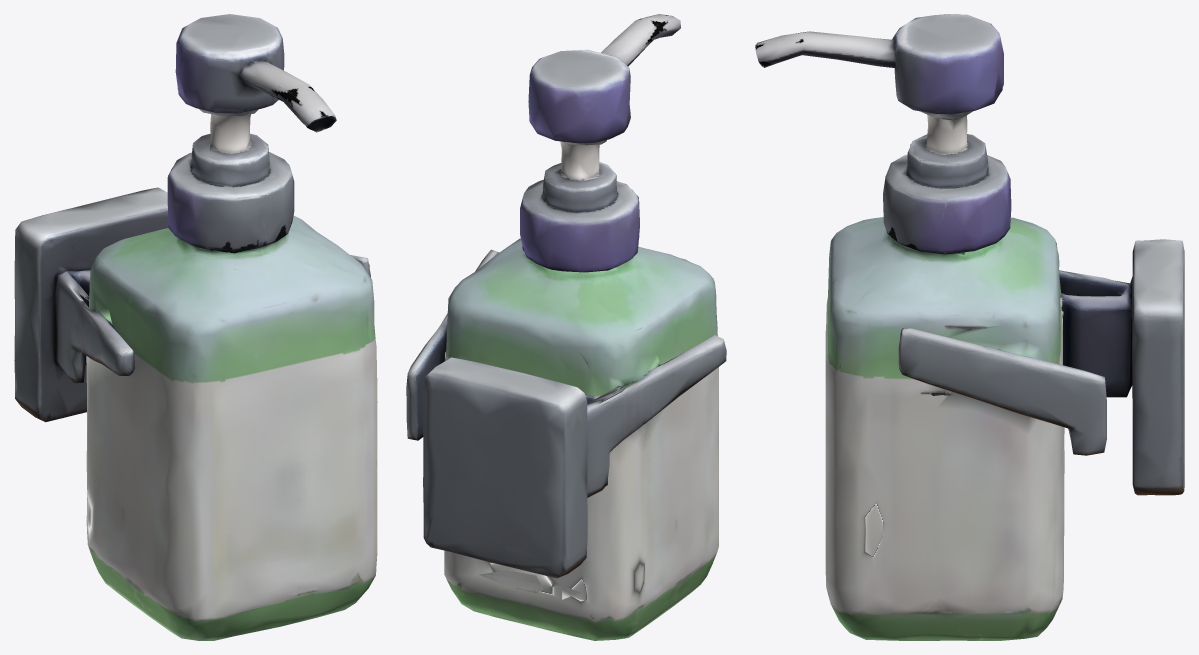
The model's file is teakitchen_DishSoapDispenser.glb.
3 views of the same model, side by side, from view 1: azimuth 30°, elevation 25°; view 2: azimuth 150°, elevation 25°; view 3: azimuth 270°, elevation 25° (orthographic). The views are drawn at different scales.
Visible parts, largest first — view 1: world; view 2: world; view 3: world.
Boxes of the visible parts, box(x1,y1,x2,y2) form: world: box(14, 14, 377, 640); world: box(406, 14, 726, 640); world: box(755, 14, 1184, 640).
Bounding box in the file's own units: 0.4731 × 1 × 0.689.
1 material, 1 textured.
